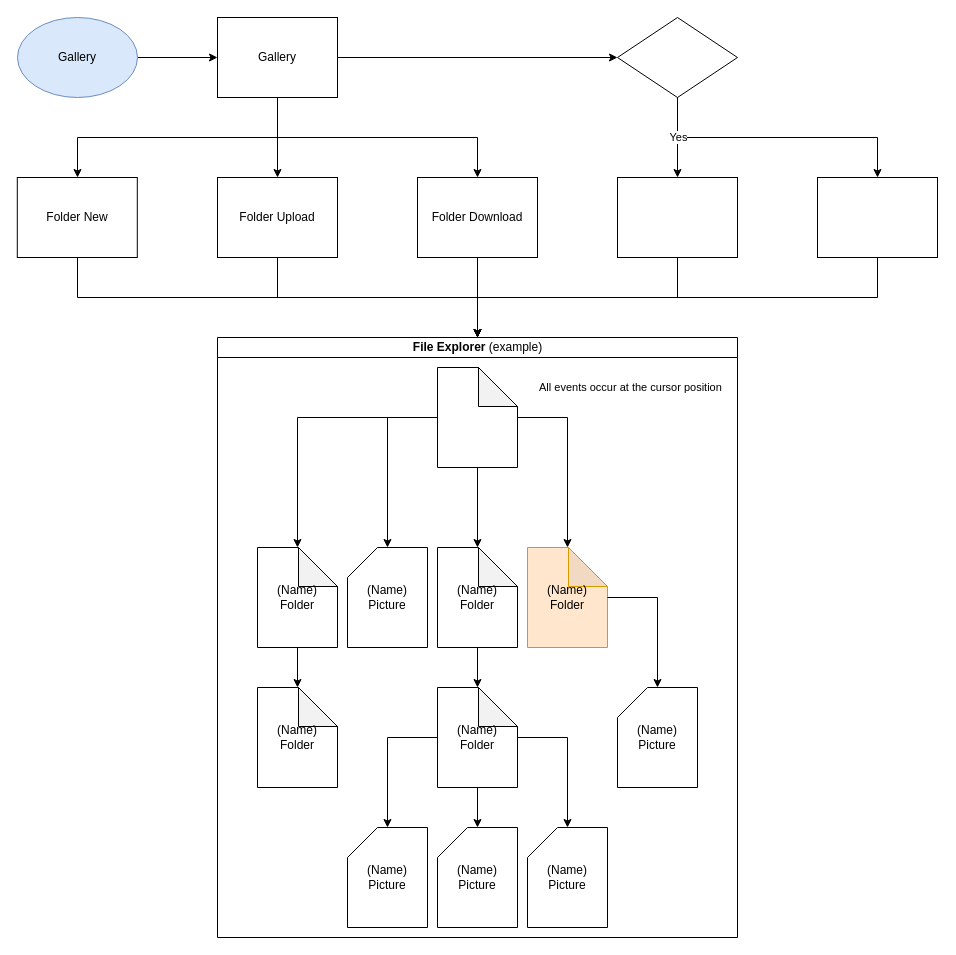
The diagram is 956 pixels wide and 955 high, and some of its shapes have lost their labels. Each missing label, with the centre of its shape:
"File Delete" goes at pixel 877 217.
"File Move" goes at pixel 677 217.
"Long Touch?" goes at pixel 677 57.
"Root Folder" goes at pixel 477 417.
